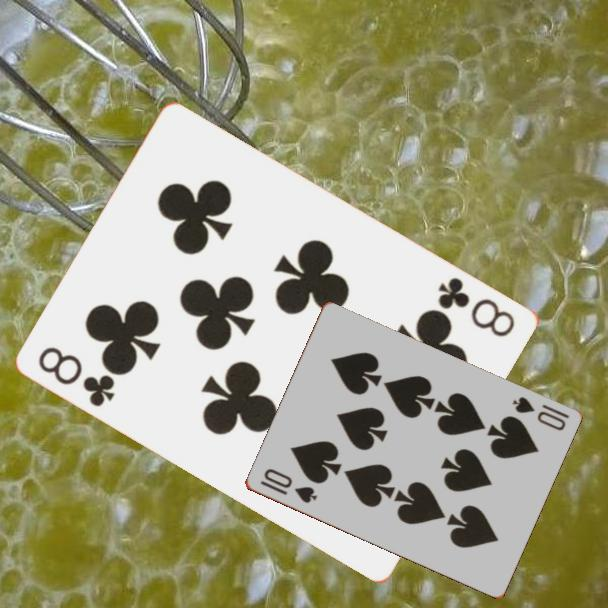c08: (434, 273, 519, 340), (35, 343, 119, 410)
s10: (256, 465, 320, 506), (508, 393, 572, 434)
